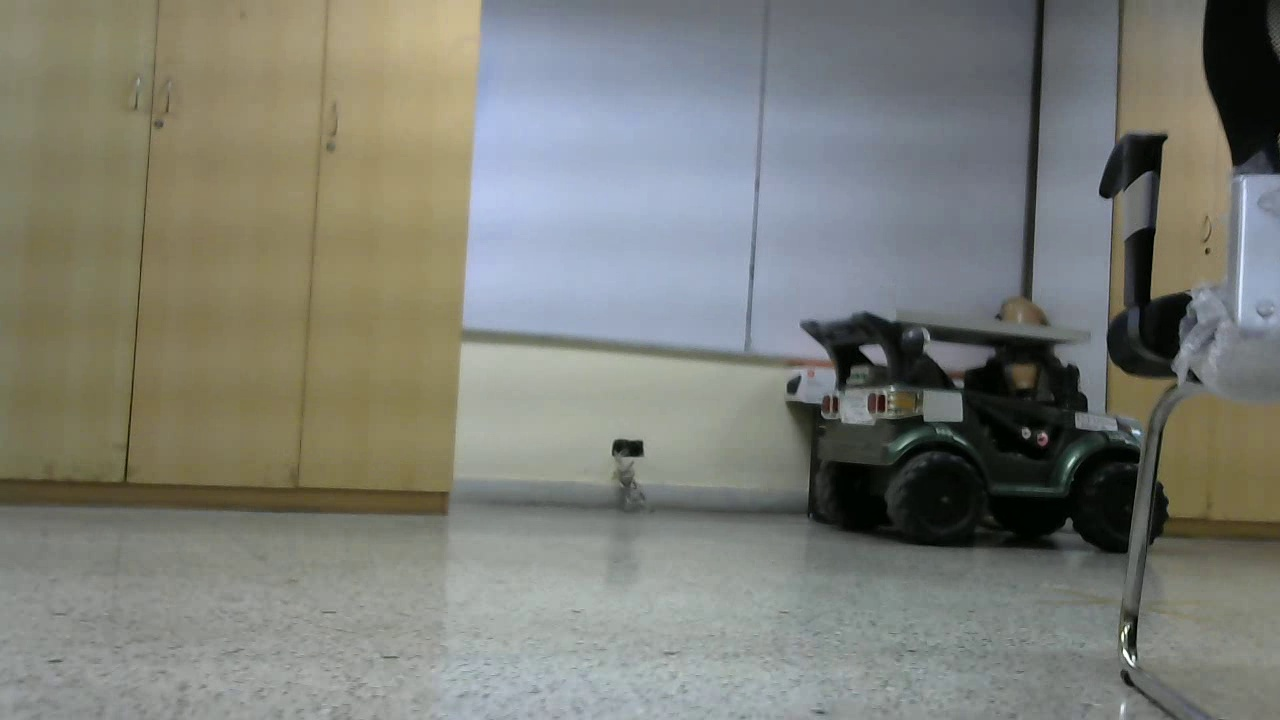chair: (572, 77, 825, 586)
